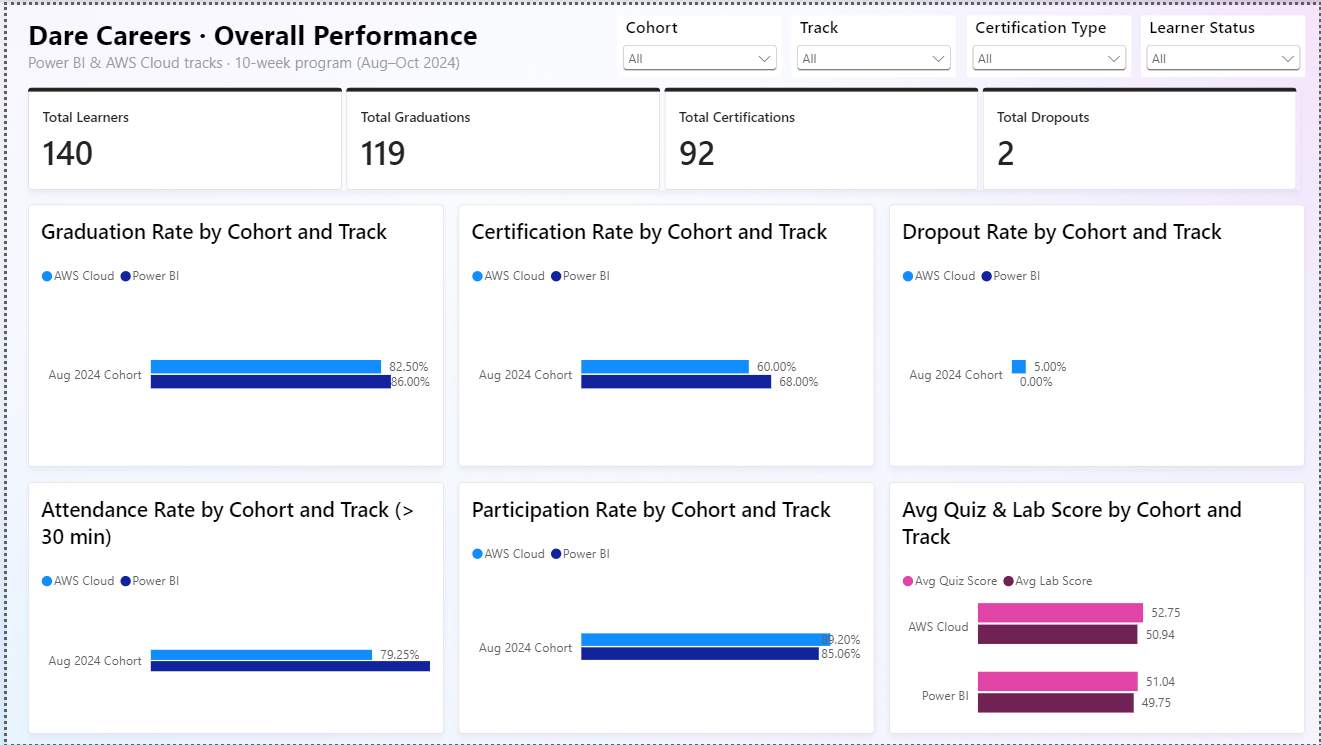

What the dashboard file says about the page in this screenshot:
{"tool":"powerbi","page":{"name":"Overall Performance","canvas":[1280,720],"ordinal":0},"visuals":[{"type":"textbox","box":[20,10,560,60],"z":0},{"type":"cardVisual","fields":{"Data":["_Measures.Total Learners","_Measures.Total Graduations","_Measures.Total Certifications","_Measures.Total Dropouts"]},"box":[20,80,1239,100],"z":2000},{"type":"clusteredBarChart","title":"Graduation Rate by Cohort and Track","fields":{"Category":["Learners.Cohort"],"Series":["Learners.Track"],"Y":["_Measures.Graduation Rate"]},"box":[20,195,405,255],"z":3000},{"type":"clusteredBarChart","title":"Certification Rate by Cohort and Track","fields":{"Category":["Learners.Cohort"],"Series":["Learners.Track"],"Y":["_Measures.Certification Rate"]},"box":[440,195,405,255],"z":4000},{"type":"clusteredBarChart","title":"Dropout Rate by Cohort and Track","fields":{"Category":["Learners.Cohort"],"Series":["Learners.Track"],"Y":["_Measures.Dropout Rate"]},"box":[860,195,405,255],"z":5000},{"type":"clusteredBarChart","title":"Attendance Rate (>30 min) by Cohort & Track","fields":{"Category":["Learners.Cohort"],"Series":["Learners.Track"],"Y":["_Measures.Attendance Rate"]},"box":[20,465,405,245],"z":6000},{"type":"clusteredBarChart","title":"Participation Rate by Cohort and Track\t","fields":{"Category":["Learners.Cohort"],"Series":["Learners.Track"],"Y":["_Measures.Participation Rate"]},"box":[440,465,405,245],"z":7000},{"type":"clusteredBarChart","title":"Avg Quiz & Lab Score by Cohort and Track","fields":{"Category":["Learners.Cohort","Learners.Track"],"Y":["_Measures.Avg Quiz Score","_Measures.Avg Lab Score"]},"box":[860,465,405,245],"z":8000},{"type":"slicer","fields":{"Values":["Learners.Cohort"]},"box":[595,10,160,60],"z":9000},{"type":"slicer","fields":{"Values":["Learners.Track"]},"box":[765,10.4,160,60],"z":10000},{"type":"slicer","fields":{"Values":["Learners.Certification Type"]},"box":[935,10.4,160,60],"z":11000},{"type":"slicer","title":"Learner Status","fields":{"Values":["Learners.Certification Status"]},"box":[1105,10.4,160,60],"z":12000}]}

Visuals, with their boxes in screenshot pixels (x1, y1, x2, y2), scaled from the page's 1280x720 canvas onto the 1321x745 screenshot:
textbox: left=21, top=10, right=599, bottom=72
cardVisual - _Measures.Total Learners x _Measures.Total Graduations: left=21, top=83, right=1299, bottom=186
"Graduation Rate by Cohort and Track" clusteredBarChart: left=21, top=202, right=439, bottom=466
"Certification Rate by Cohort and Track" clusteredBarChart: left=454, top=202, right=872, bottom=466
"Dropout Rate by Cohort and Track" clusteredBarChart: left=888, top=202, right=1306, bottom=466
"Attendance Rate (>30 min) by Cohort & Track" clusteredBarChart: left=21, top=481, right=439, bottom=735
"Participation Rate by Cohort and Track	" clusteredBarChart: left=454, top=481, right=872, bottom=735
"Avg Quiz & Lab Score by Cohort and Track" clusteredBarChart: left=888, top=481, right=1306, bottom=735
slicer - Learners.Cohort: left=614, top=10, right=779, bottom=72
slicer - Learners.Track: left=790, top=11, right=955, bottom=73
slicer - Learners.Certification Type: left=965, top=11, right=1130, bottom=73
"Learner Status" slicer: left=1140, top=11, right=1306, bottom=73
